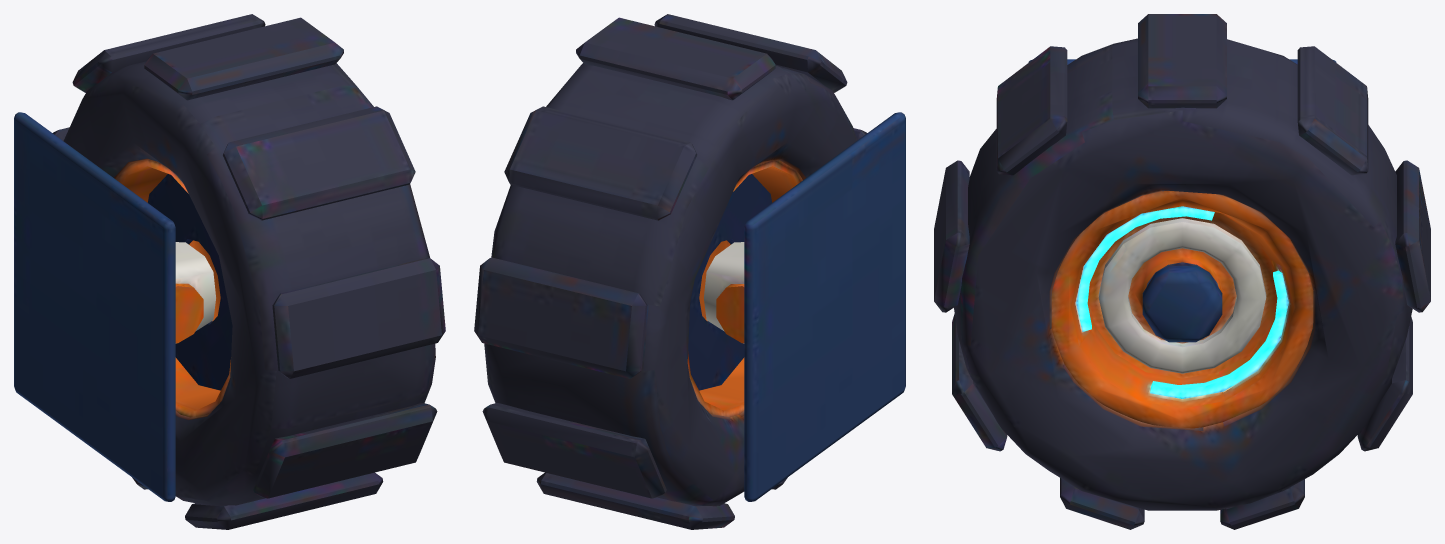
The model's file is R4M_WheelM_Side_Offroad_LOD1.glb.
The picture shows the model from 3 angles, left to right: view 1: azimuth 30°, elevation 25°; view 2: azimuth 150°, elevation 25°; view 3: azimuth 270°, elevation 25°; orthographic projection.
Visible parts, largest first — view 1: R4M_WheelM_Side_Offroad_LOD1; view 2: R4M_WheelM_Side_Offroad_LOD1; view 3: R4M_WheelM_Side_Offroad_LOD1.
Boxes of the visible parts, left/top/right/bottom form: R4M_WheelM_Side_Offroad_LOD1: left=14, top=14, right=445, bottom=529; R4M_WheelM_Side_Offroad_LOD1: left=474, top=14, right=905, bottom=529; R4M_WheelM_Side_Offroad_LOD1: left=934, top=14, right=1430, bottom=529.
Size of the model in its own units: 0.448 by 0.7711 by 0.783.
4 materials, 4 textured.
